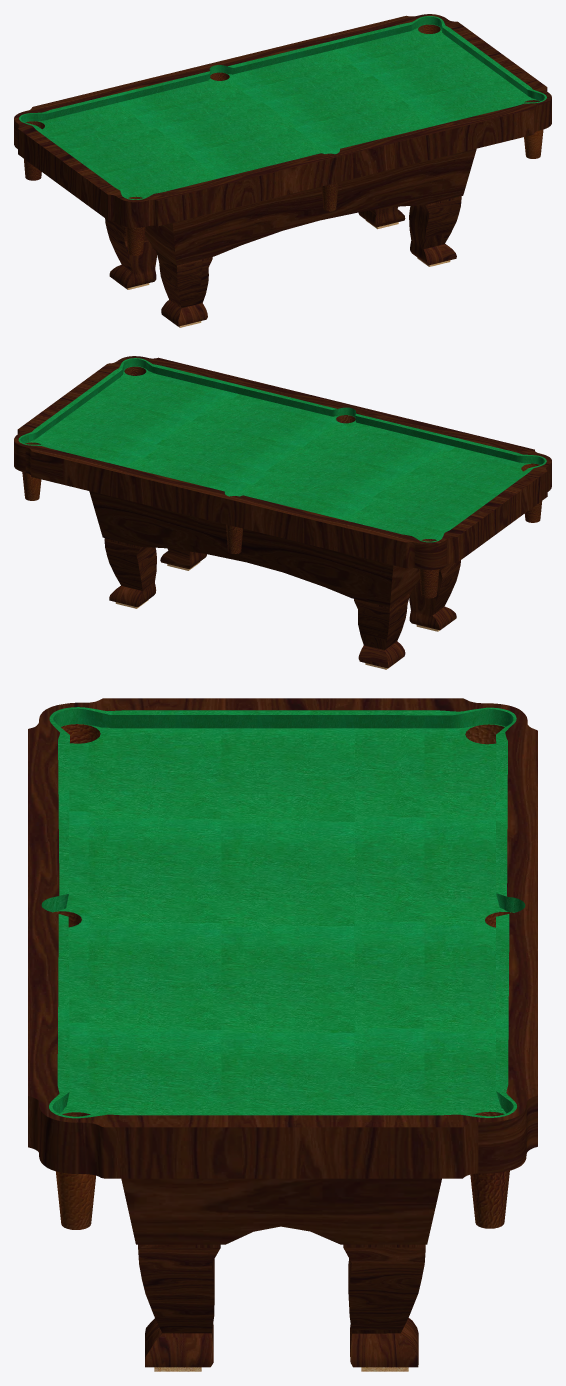
Rendered from pool-table.glb.
The picture shows the model from 3 angles, top to bottom: view 1: azimuth 30°, elevation 25°; view 2: azimuth 150°, elevation 25°; view 3: azimuth 270°, elevation 25°; orthographic projection. The views are drawn at different scales.
Parts seen in each view (by area): view 1: group4_pasted__group_pasted__pasted__pCube15_aiStandardSurfa (×3); view 2: group4_pasted__group_pasted__pasted__pCube15_aiStandardSurfa (×3); view 3: group4_pasted__group_pasted__pasted__pCube15_aiStandardSurfa (×3).
Boxes of the visible parts, x1,y1,x2,y2 form: group4_pasted__group_pasted__pasted__pCube15_aiStandardSurfa (×3): [14, 14, 551, 326]; group4_pasted__group_pasted__pasted__pCube15_aiStandardSurfa (×3): [14, 356, 551, 668]; group4_pasted__group_pasted__pasted__pCube15_aiStandardSurfa (×3): [28, 698, 537, 1367].
Size of the model in its own units: 2.54 by 0.9019 by 1.28.
Materials: 4 (4 with a texture image).
